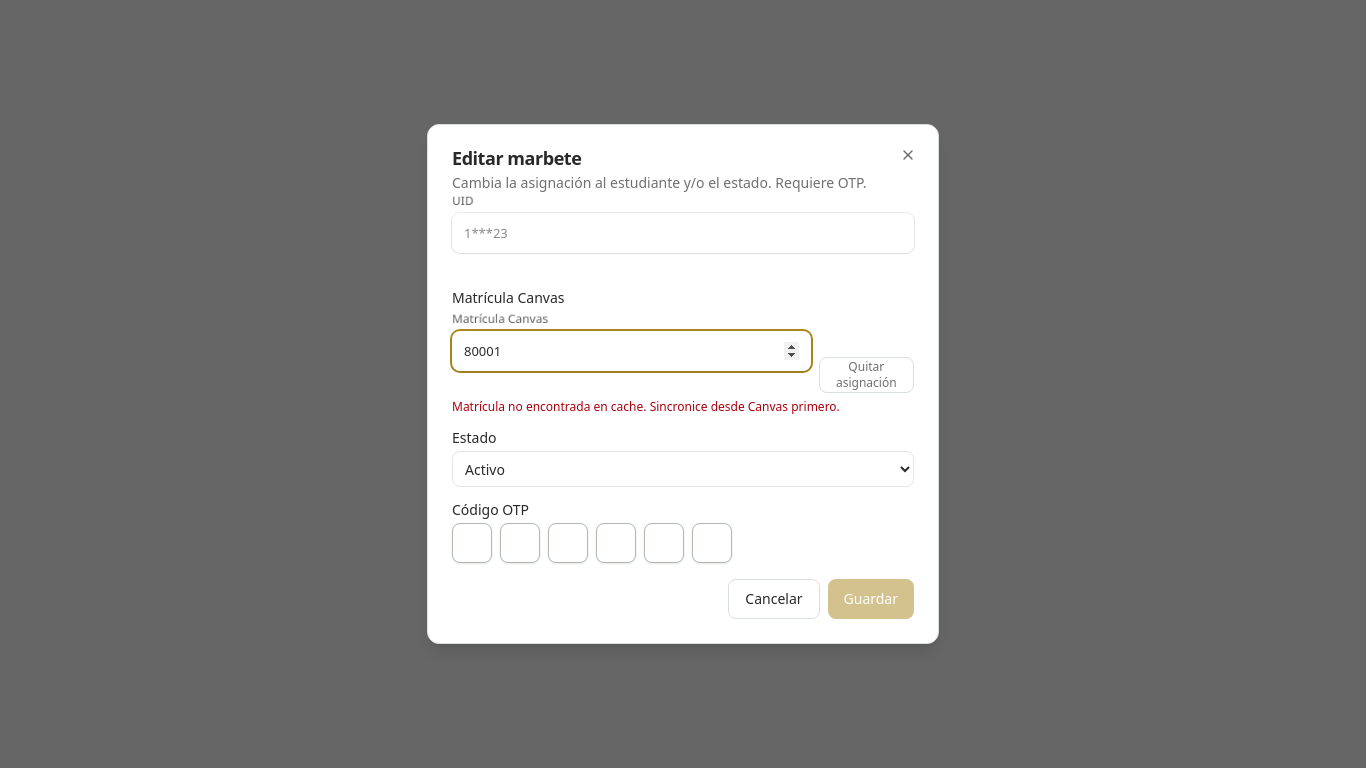
Test: EditDialog › disables submit until OTP has 6 digits
This screenshot has width=1366, height=768.
Check: the button with test id "edit-submit" is disabled, box [828,579,914,619]
Type "1" into the field named "Digit".
click(472, 543); type("1")  # box [452,523,492,563]
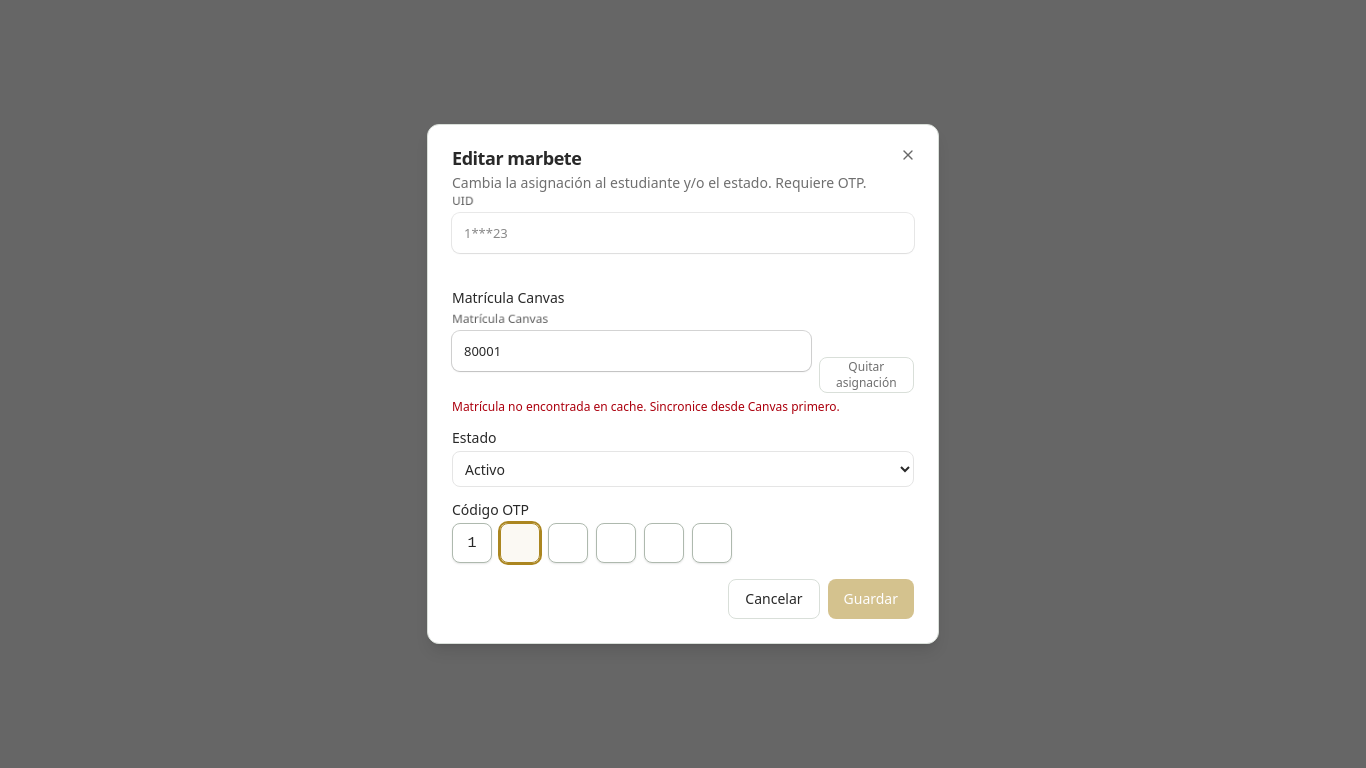
Type "1" into the field named "Digit".
click(520, 543); type("1")  # box [500,523,540,563]
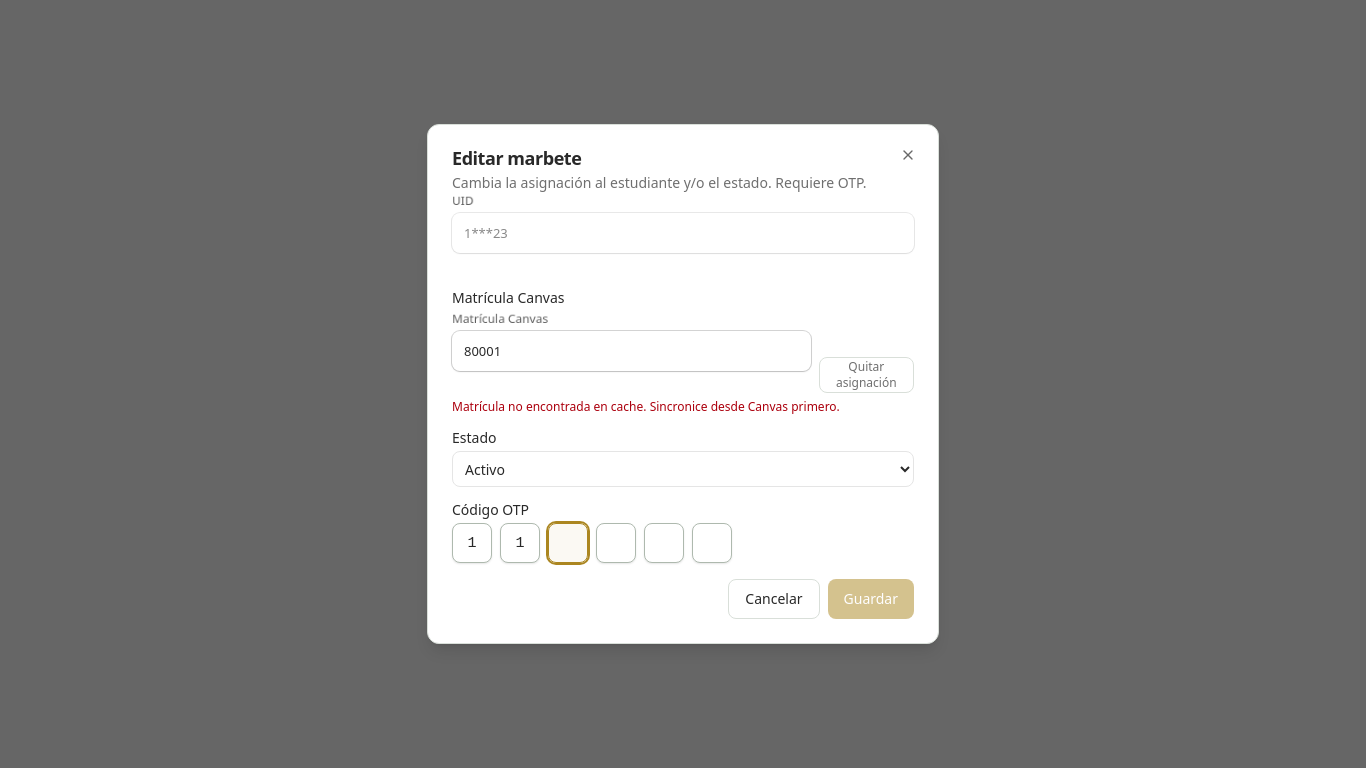
Type "1" into the field named "Digit".
click(568, 543); type("1")  # box [548,523,588,563]
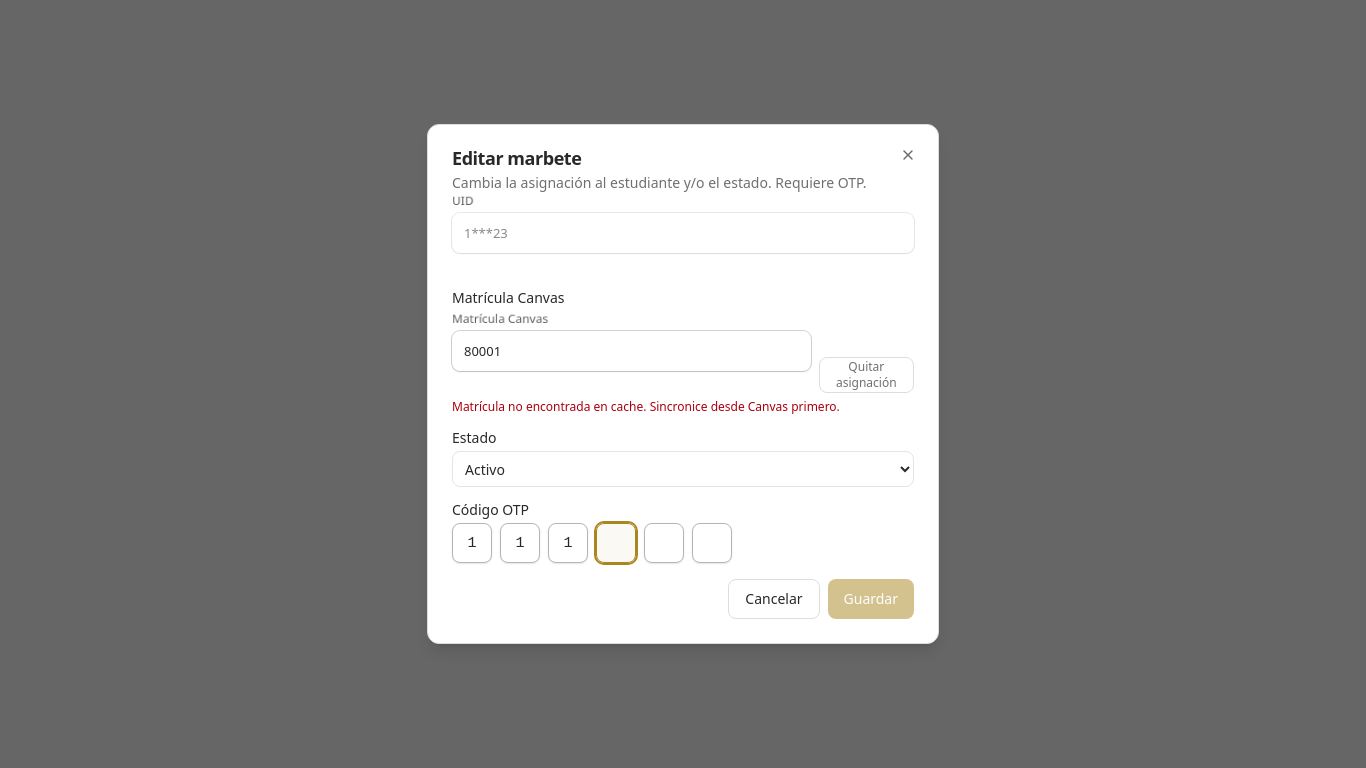
Type "1" into the field named "Digit".
click(616, 543); type("1")  # box [596,523,636,563]
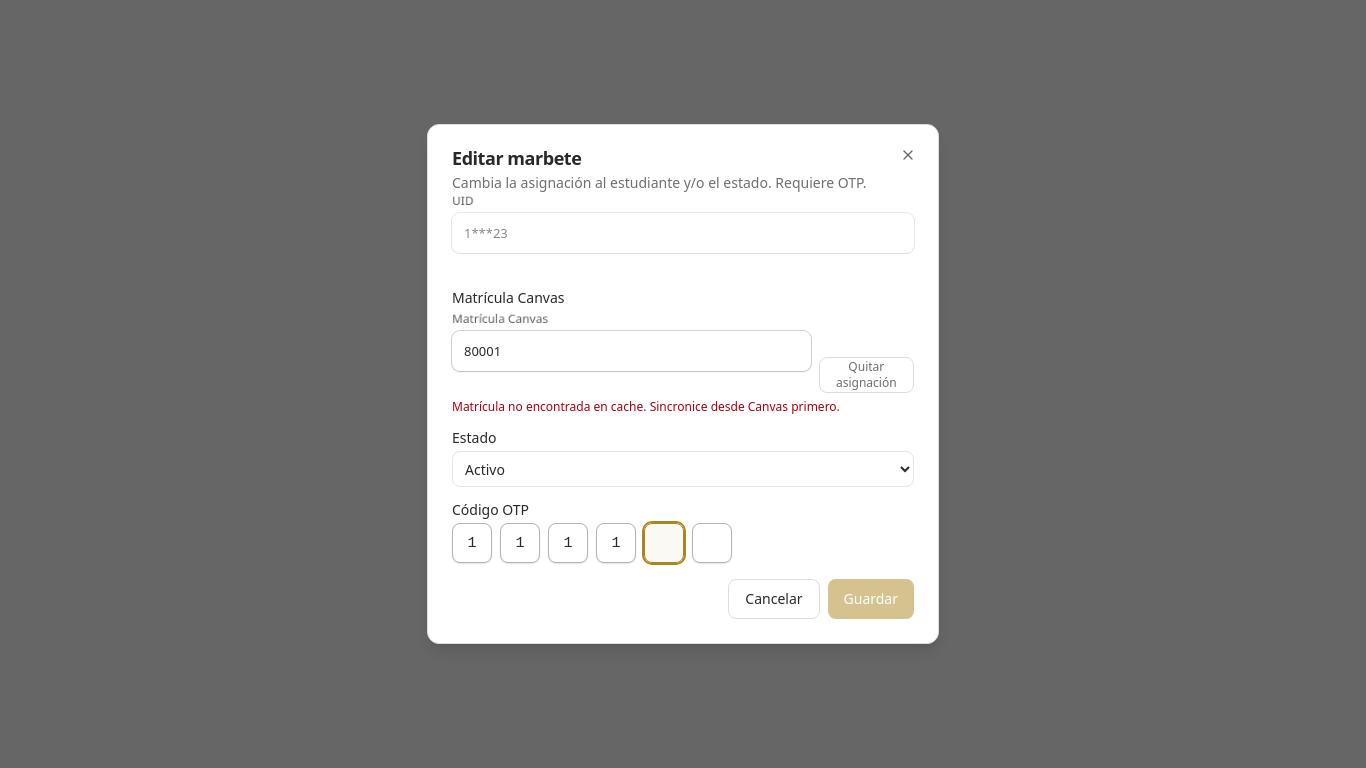
Type "1" into the field named "Digit".
click(664, 543); type("1")  # box [644,523,684,563]
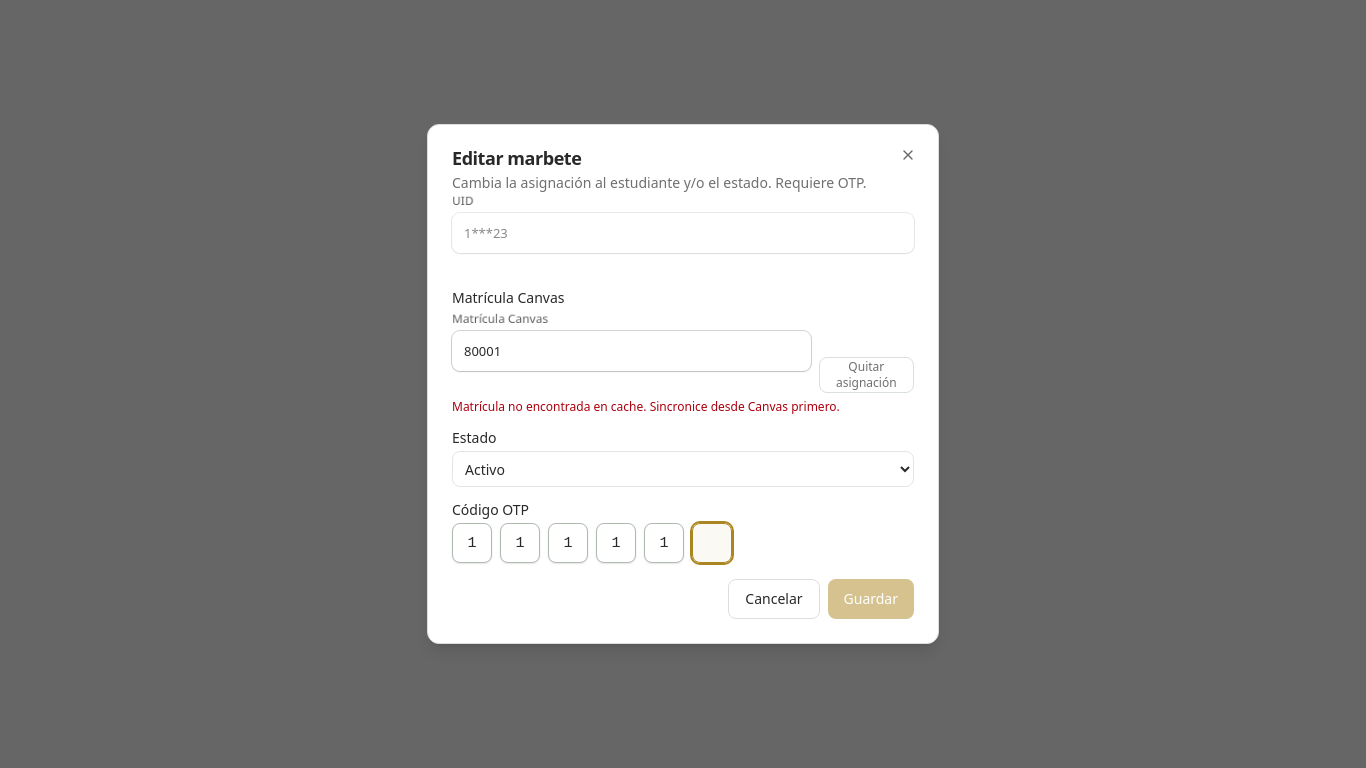
Type "1" into the field named "Digit".
click(712, 543); type("1")  # box [692,523,732,563]
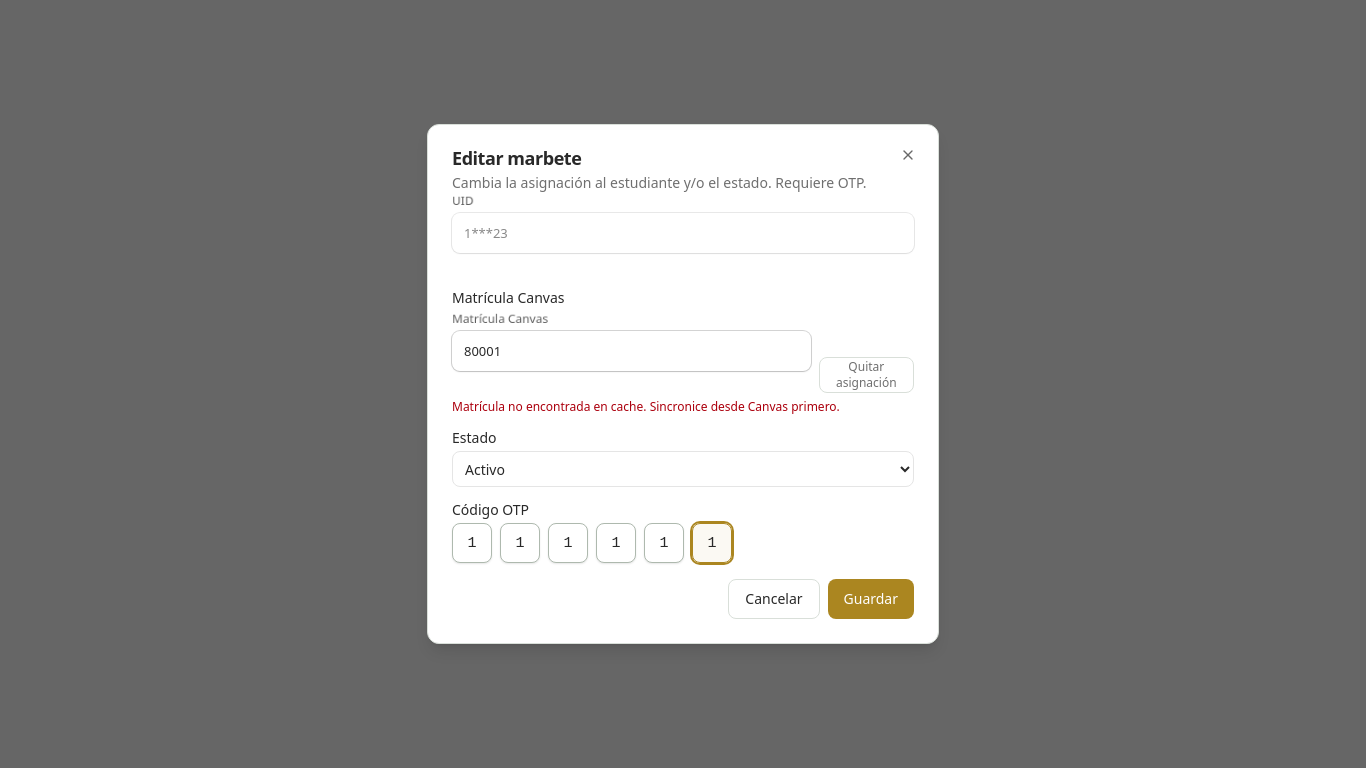
Check: the button with test id "edit-submit" is enabled, box [828,579,914,619]
